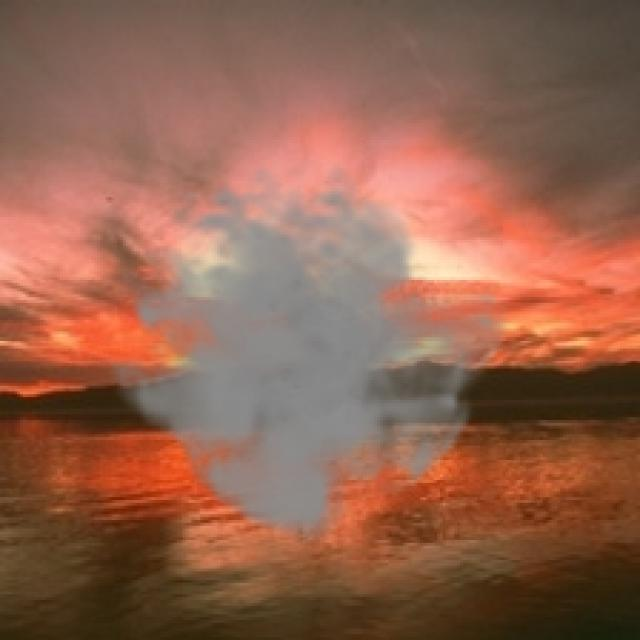smoke: (92, 163, 514, 546)
